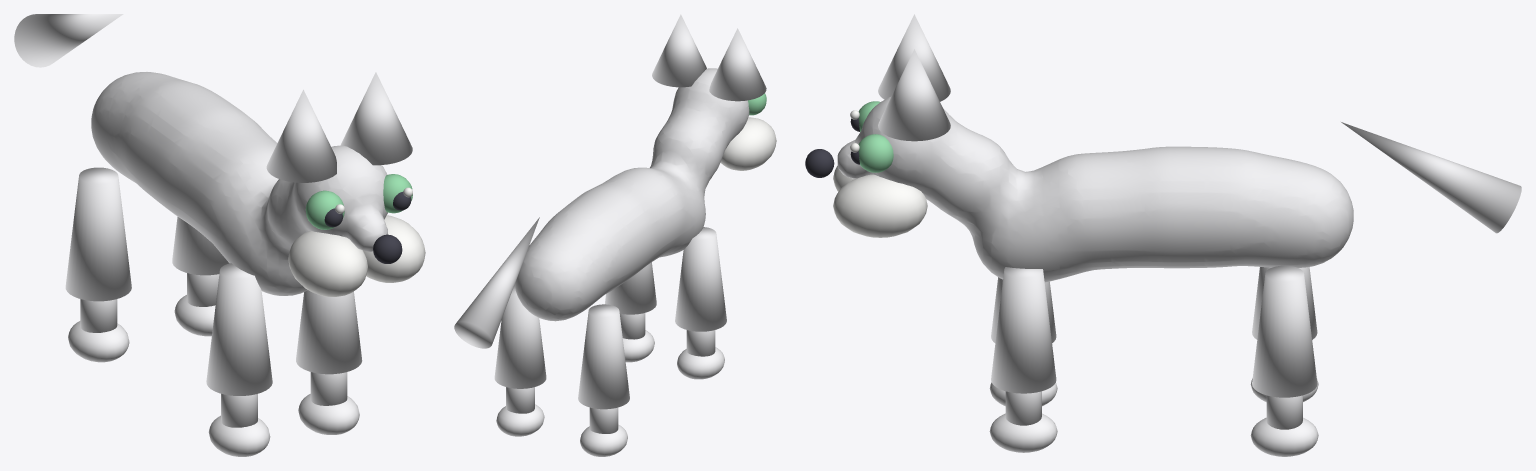
Rendered from Kitten.fbx.
3 renders of one model, left to right at view 1: azimuth 30°, elevation 25°; view 2: azimuth 150°, elevation 25°; view 3: azimuth 270°, elevation 25°, orthographic. The views are drawn at different scales.
Parts seen in each view (by area): view 1: Kitten; view 2: Kitten; view 3: Kitten.
Boxes of the visible parts, x1=… form: Kitten: x1=14, y1=14, x2=425, y2=456; Kitten: x1=454, y1=14, x2=776, y2=456; Kitten: x1=805, y1=14, x2=1521, y2=456.
Bounding box in the file's own units: 154 × 360 × 590.
